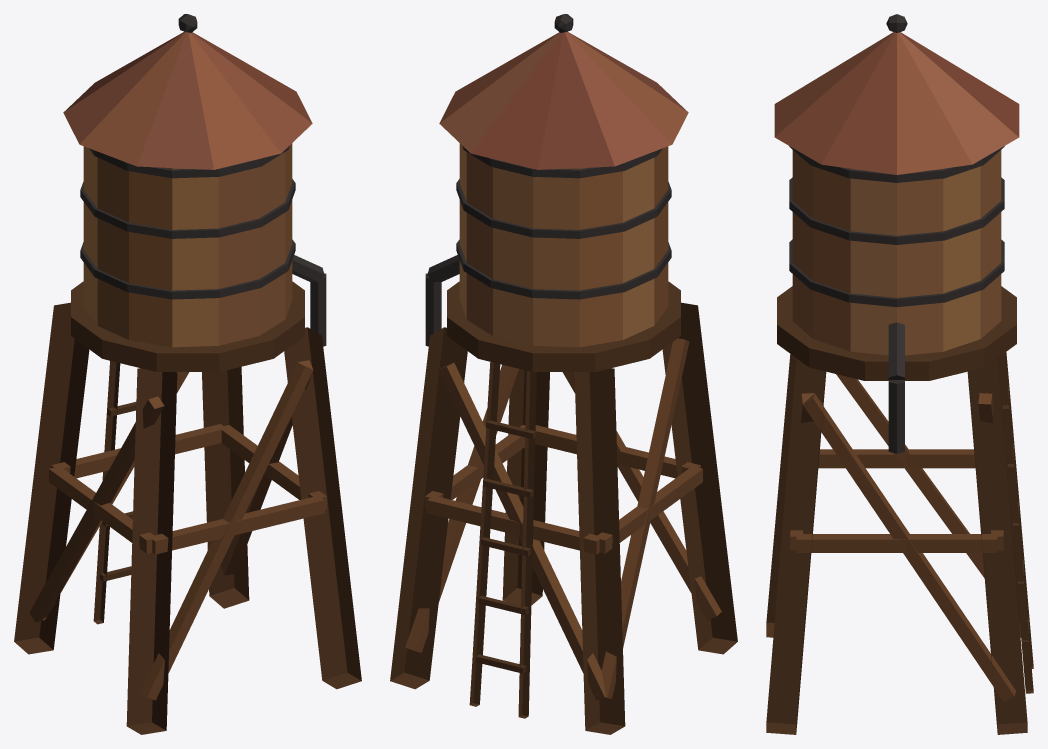
File: WaterTower.glb
3 views of the same model, side by side, from view 1: azimuth 30°, elevation 25°; view 2: azimuth 150°, elevation 25°; view 3: azimuth 270°, elevation 25° (orthographic). The views are drawn at different scales.
Parts seen in each view (by area): view 1: Body, Roof; view 2: Body, Roof; view 3: Body, Roof.
Part boxes in pixels (left/top/right/bottom): Body: left=14, top=14, right=361, bottom=734; Roof: left=63, top=31, right=312, bottom=169; Body: left=390, top=14, right=737, bottom=734; Roof: left=439, top=31, right=688, bottom=169; Body: left=766, top=14, right=1033, bottom=734; Roof: left=774, top=32, right=1019, bottom=174.
Size of what is drawn, in the model's own units: 6.87 by 17.2 by 6.24.
